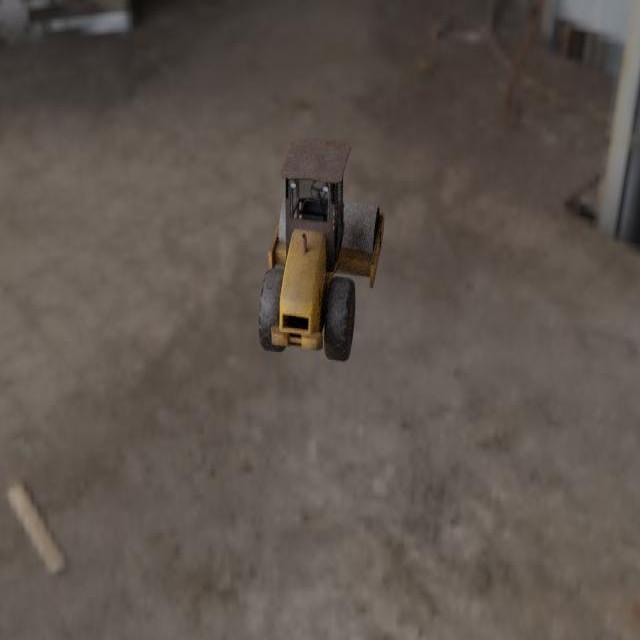Roller: (258, 138, 385, 362)
